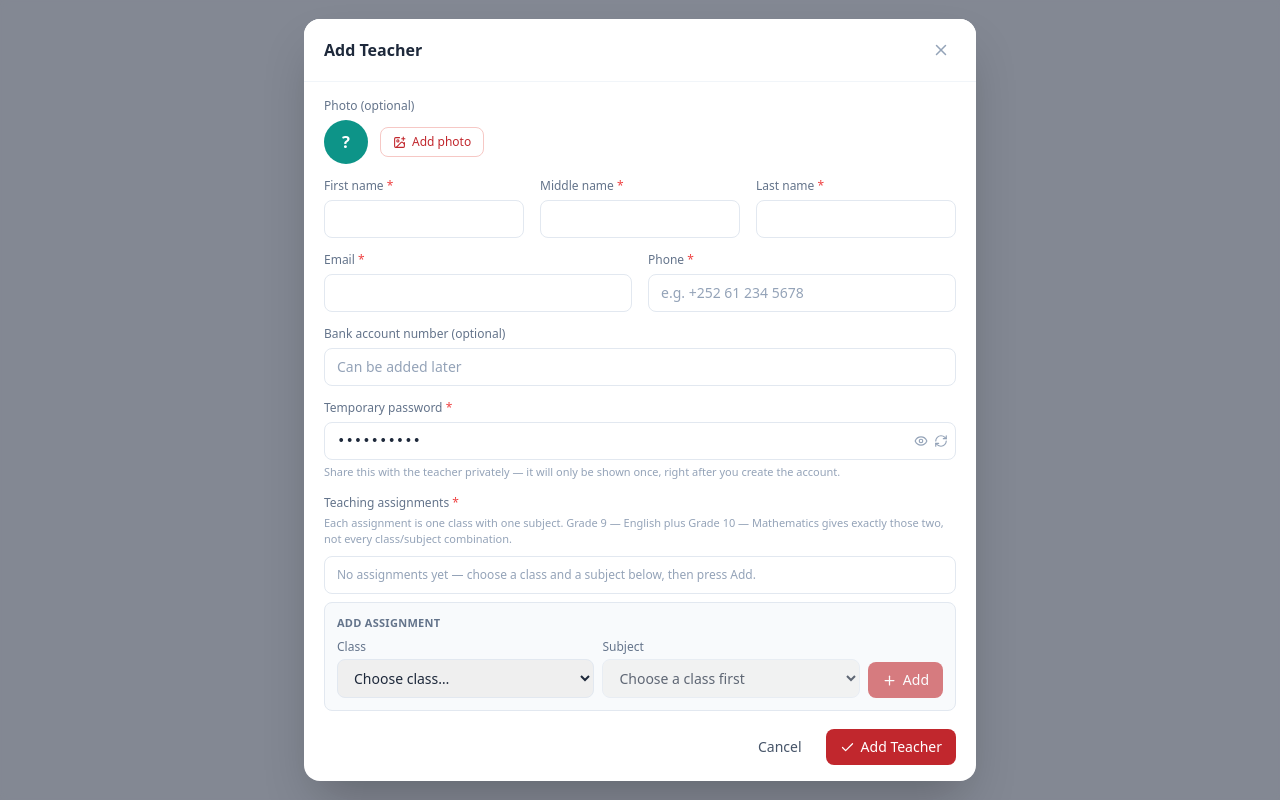
Add Teacher: pair entry › at least one assignment is required
Step 1. Type "Amina" into the field labelled "First name *" → (424, 219), box x1=324 y1=200 x2=524 y2=238
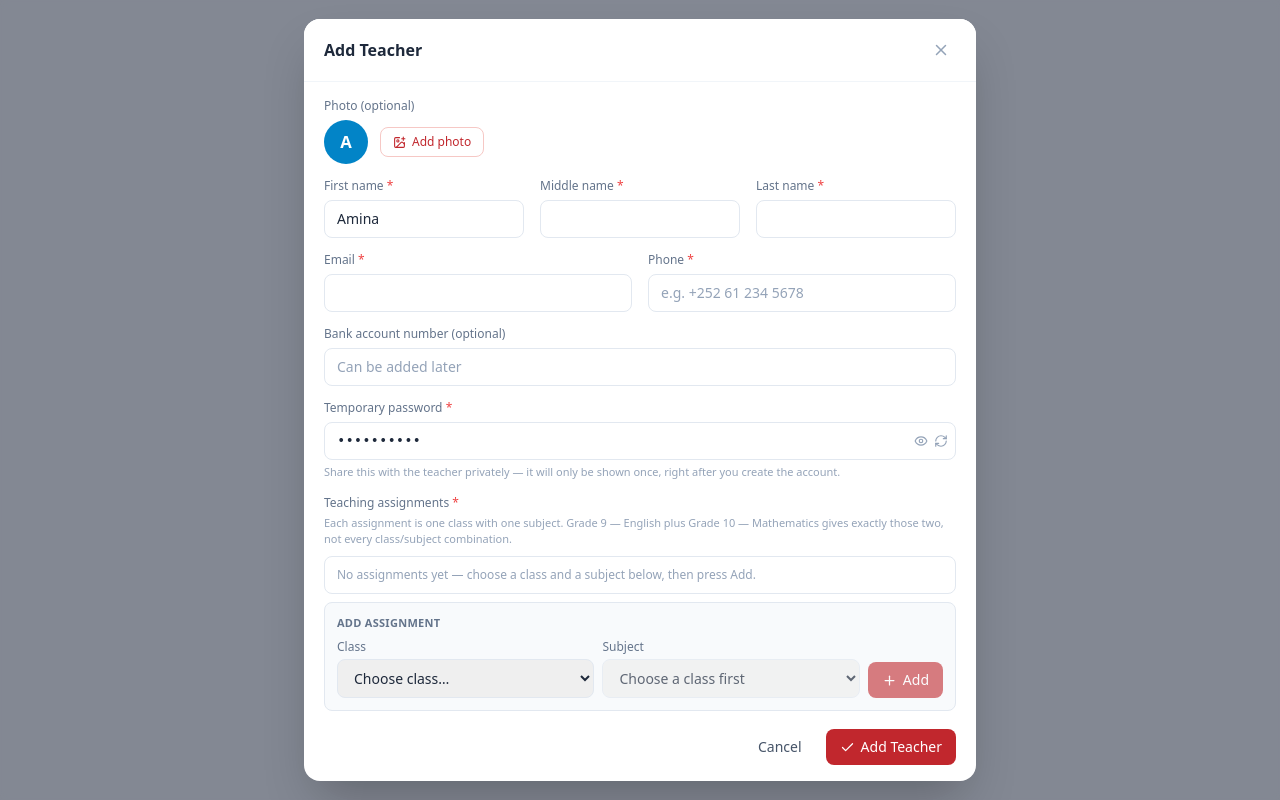
Step 2. Type "Ali" into the field labelled "Middle name *" → (640, 219), box x1=540 y1=200 x2=740 y2=238
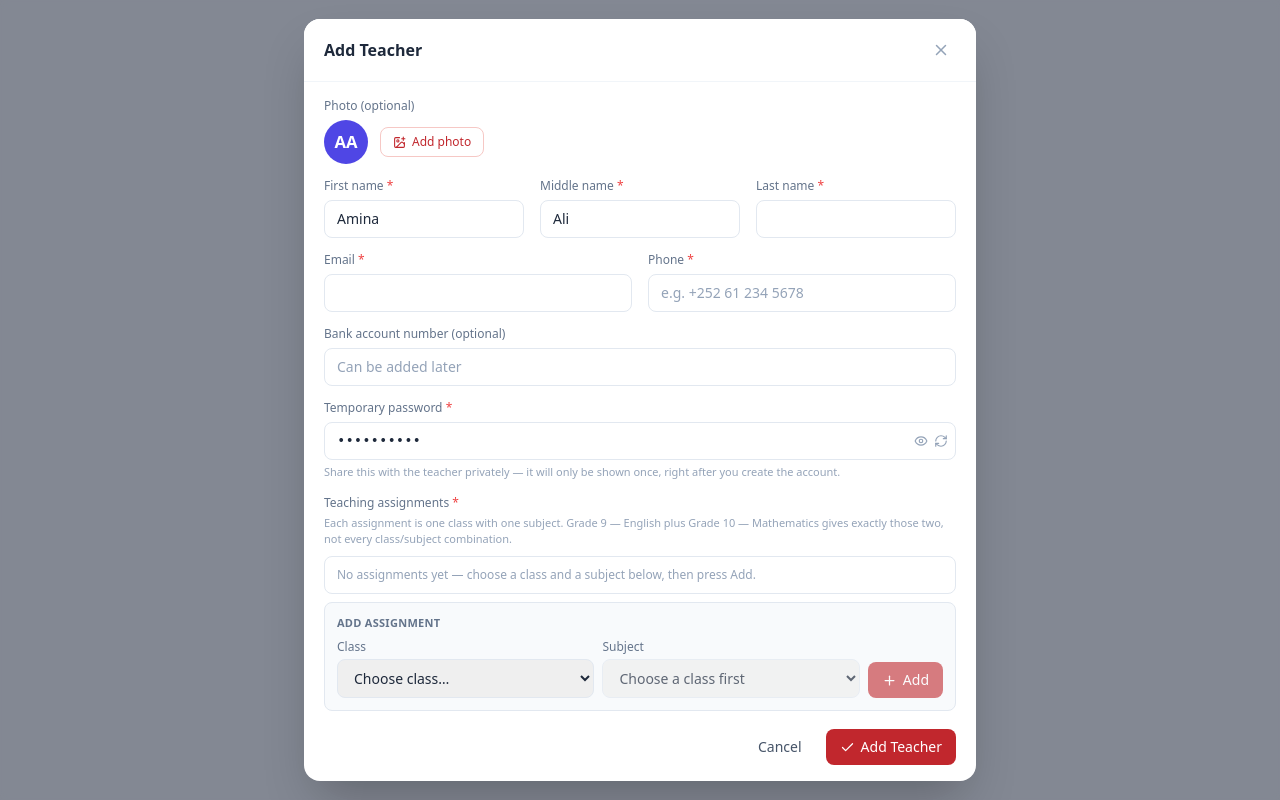
Step 3. Type "Hassan" into the field labelled "Last name *" → (856, 219), box x1=756 y1=200 x2=956 y2=238
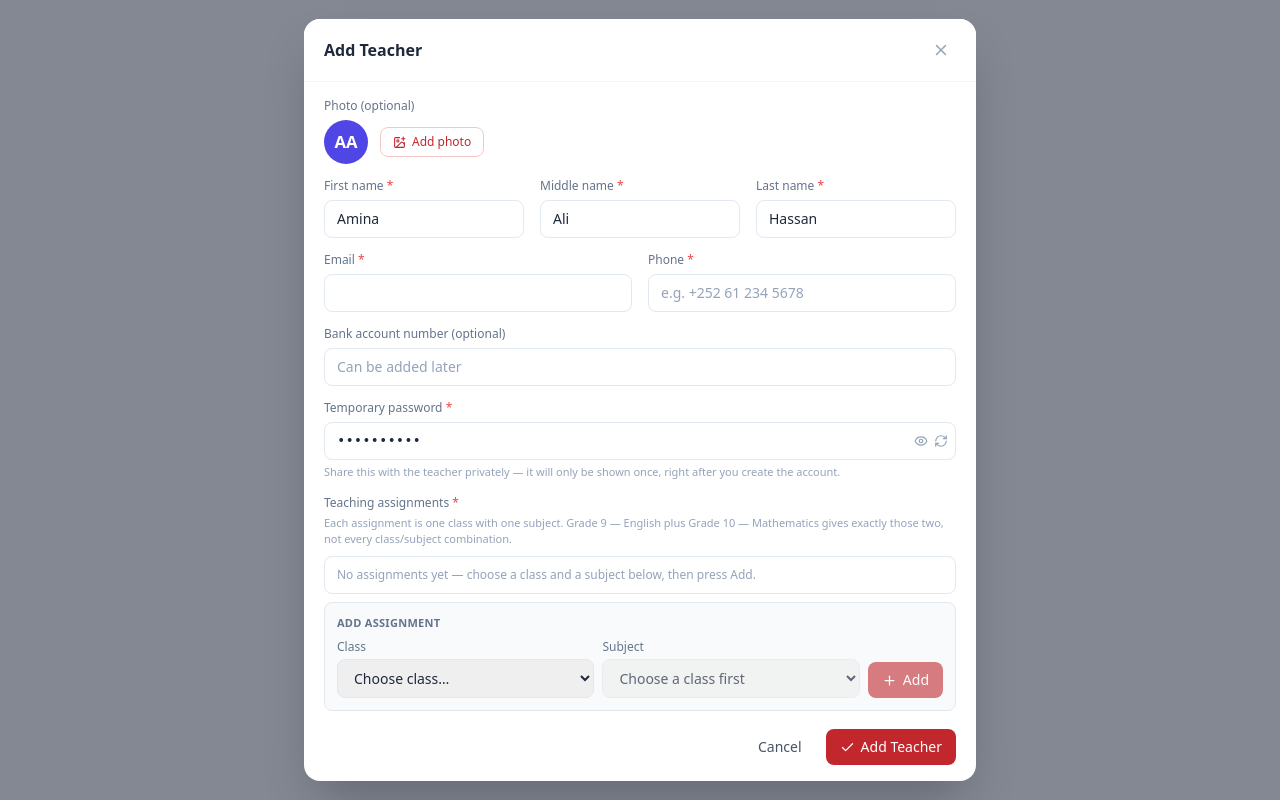
Step 4. Type "amina@school.test" into the field labelled "Email *" → (478, 293), box x1=324 y1=274 x2=632 y2=312
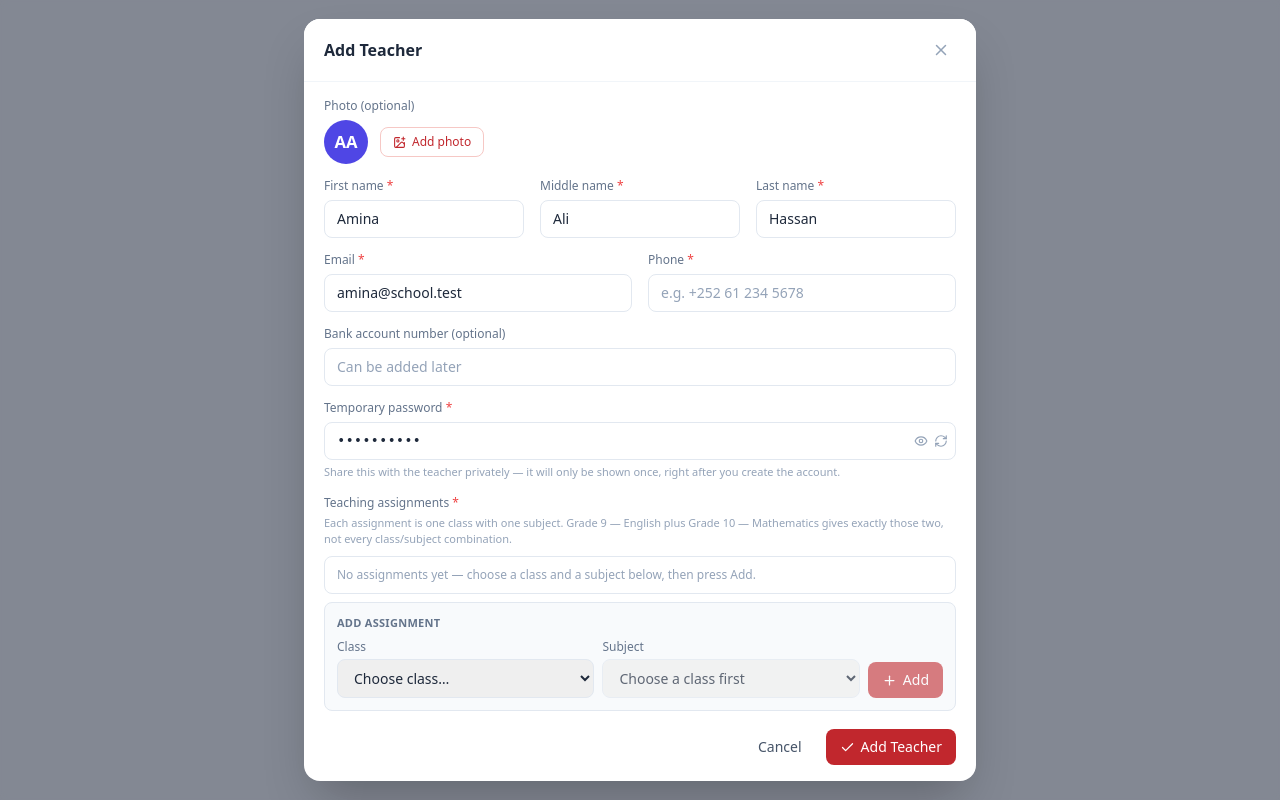
Step 5. Type "+252 61 000 0000" into the field labelled "Phone *" → (802, 293), box x1=648 y1=274 x2=956 y2=312
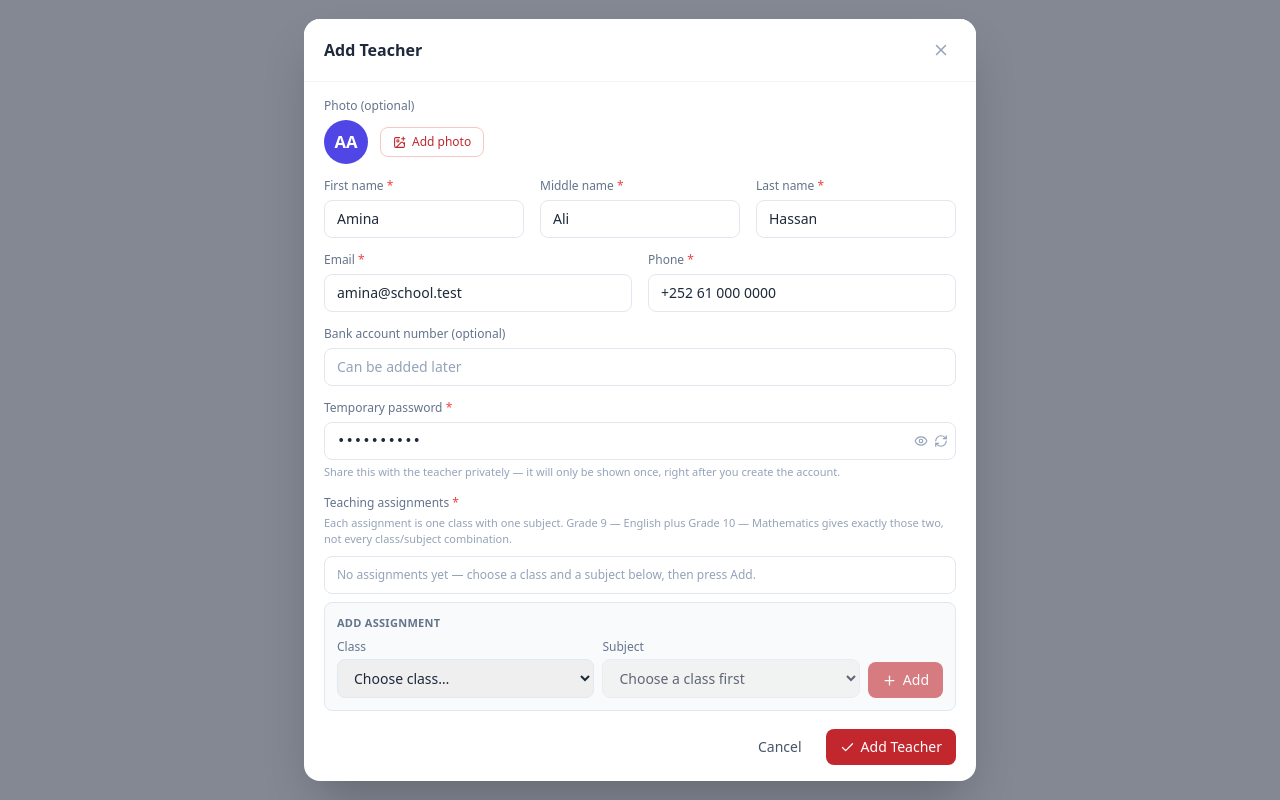
Step 6. Click the button "Add Teacher" → (891, 747), box x1=826 y1=729 x2=956 y2=765
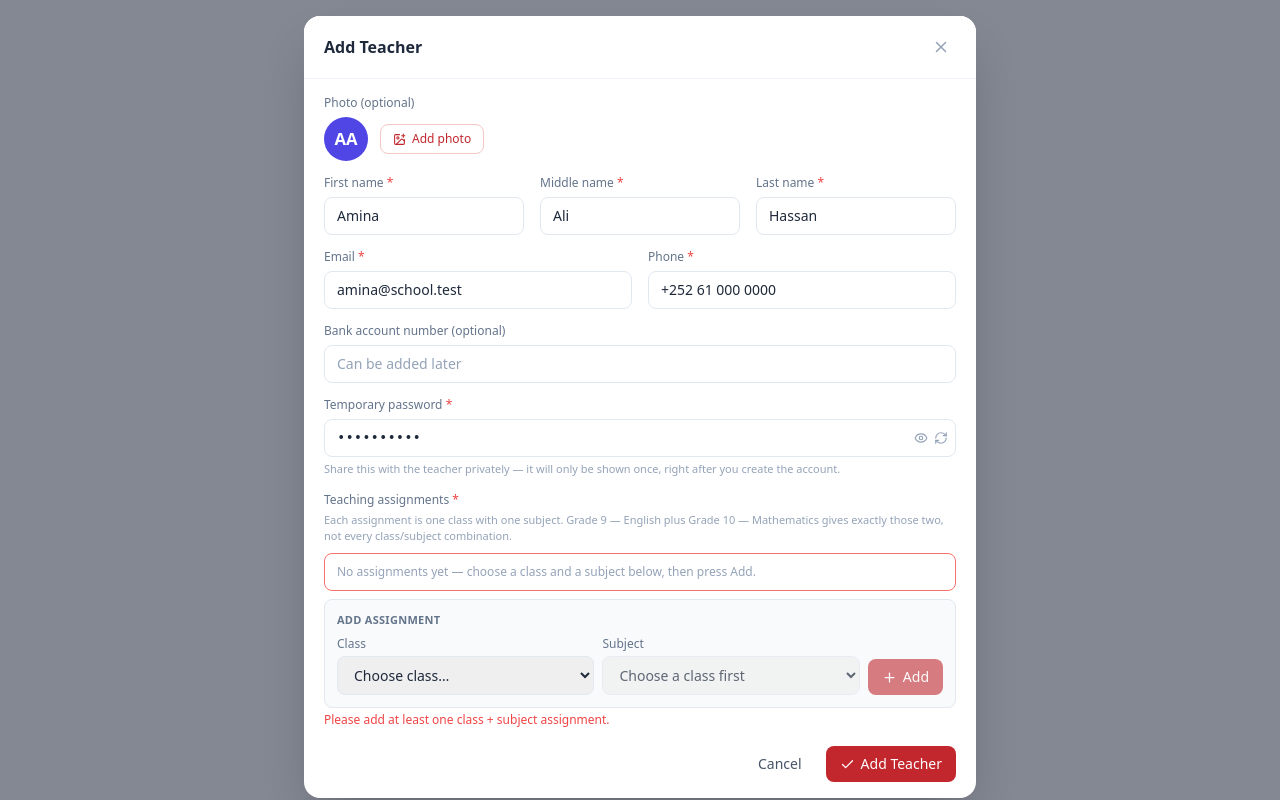
Expected: the text "Please add at least one class + subject assignment." is shown, x1=324 y1=711 x2=610 y2=728
